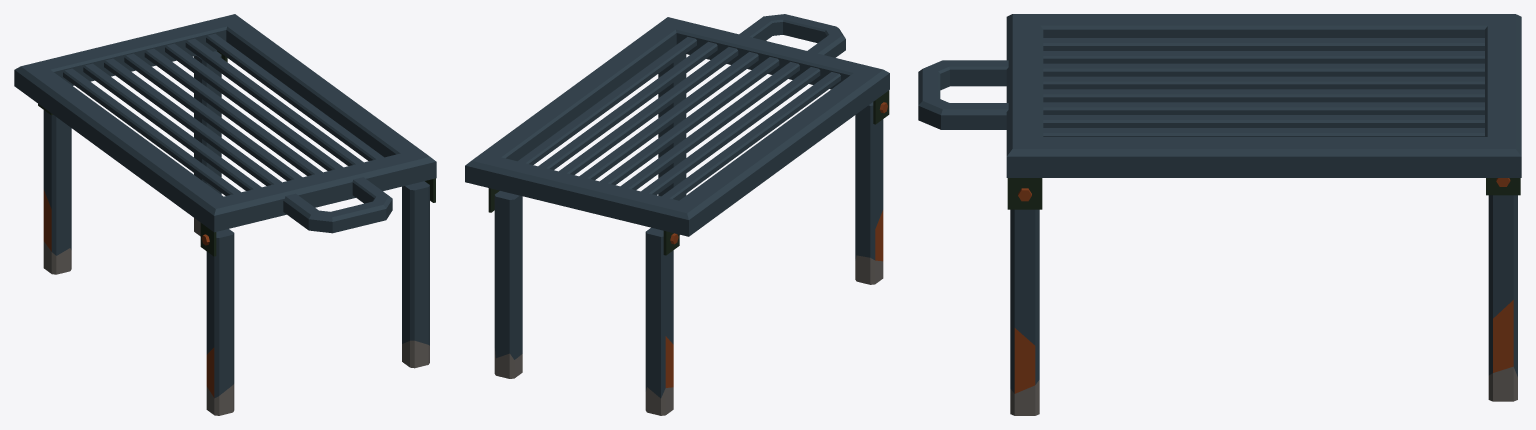
Rendered from campfire-cooking-grate-884d56.glb.
3 renders of one model, left to right at view 1: azimuth 30°, elevation 25°; view 2: azimuth 150°, elevation 25°; view 3: azimuth 270°, elevation 25°, orthographic. The views are drawn at different scales.
Parts seen in each view (by area): view 1: grate-frame, strut-fr, strut-fl, strut-rl, strut-rr; view 2: grate-frame, strut-rr, strut-rl, strut-fl, strut-fr; view 3: grate-frame, strut-fr, strut-rr.
Part boxes in pixels (x1,y1,x2,y2): grate-frame: [14, 14, 436, 256]; strut-fr: [402, 181, 429, 368]; strut-fl: [206, 229, 234, 415]; strut-rl: [43, 110, 71, 274]; strut-rr: [194, 51, 221, 236]; grate-frame: [465, 14, 889, 255]; strut-rr: [494, 191, 522, 378]; strut-rl: [645, 227, 673, 415]; strut-fl: [855, 102, 883, 284]; strut-fr: [658, 54, 686, 200]; grate-frame: [918, 14, 1521, 209]; strut-fr: [1010, 209, 1039, 415]; strut-rr: [1488, 195, 1517, 401].
Size of the model in its own units: 0.461 by 0.4 by 0.82.
